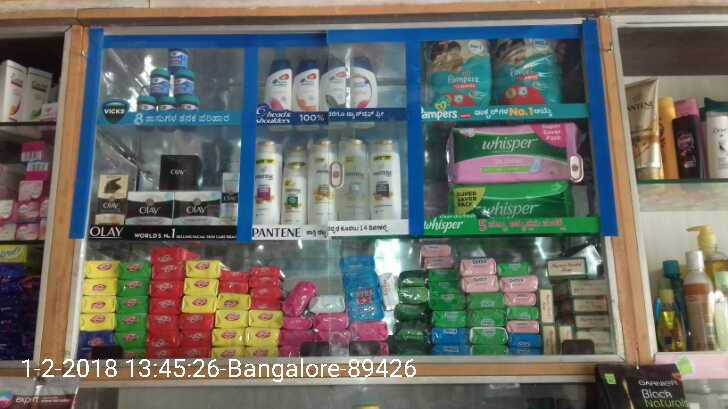beauty: (252, 131, 281, 230), (335, 138, 368, 225), (369, 138, 403, 222), (305, 140, 334, 222), (171, 189, 217, 231), (98, 170, 128, 229), (283, 140, 305, 220), (349, 49, 377, 109), (152, 154, 197, 190), (126, 190, 171, 226), (321, 58, 349, 112), (294, 63, 323, 111), (266, 59, 291, 113)
pharmacy: (437, 126, 584, 179), (446, 181, 573, 229), (489, 32, 561, 105), (423, 36, 489, 110), (167, 45, 190, 75), (147, 69, 170, 98), (170, 73, 195, 96)
